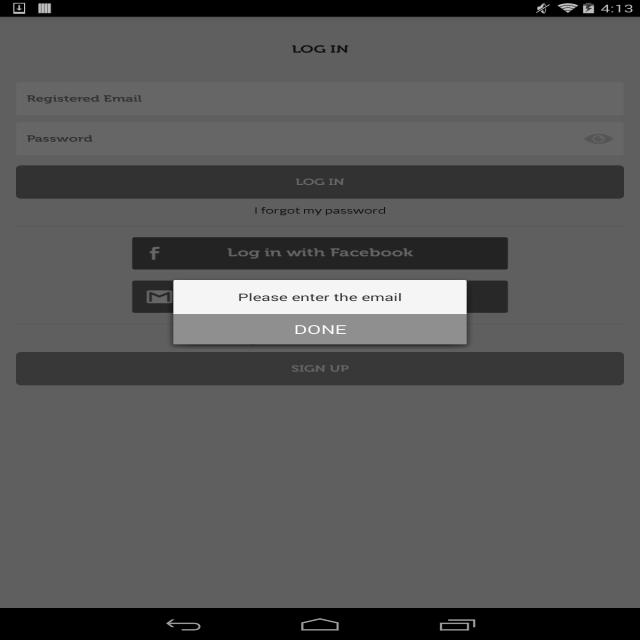Button: (11, 162, 630, 201), (11, 350, 630, 388), (125, 235, 513, 272), (168, 309, 473, 346)
EditText: (12, 121, 626, 158), (15, 82, 624, 117)
TextView: (284, 41, 358, 58)
